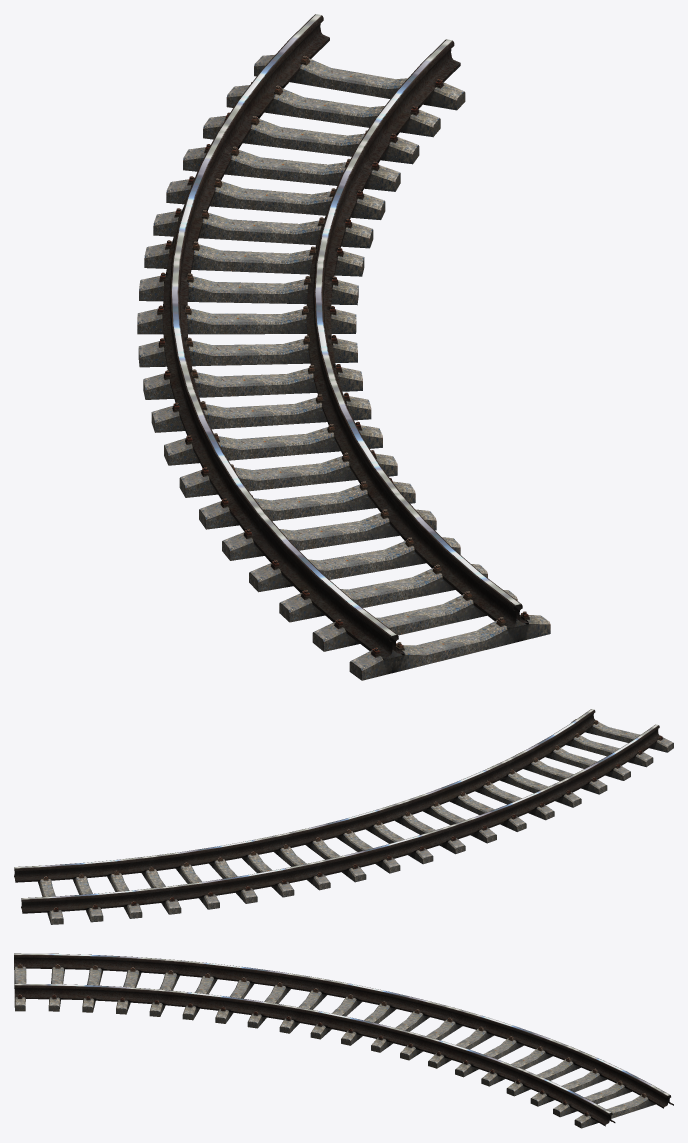
The model's file is Beton_rail_-55.FBX.
3 renders of one model, top to bottom at view 1: azimuth 30°, elevation 25°; view 2: azimuth 150°, elevation 25°; view 3: azimuth 270°, elevation 25°, orthographic. The views are drawn at different scales.
Parts seen in each view (by area): view 1: Beton_rail_-55_LOD0; view 2: Beton_rail_-55_LOD0; view 3: Beton_rail_-55_LOD0.
Boxes of the visible parts, box(x1,y1,x2,y2) form: Beton_rail_-55_LOD0: box(137, 14, 550, 680); Beton_rail_-55_LOD0: box(14, 709, 673, 924); Beton_rail_-55_LOD0: box(14, 953, 673, 1128).
Size of what is drawn, in the model's own units: 9.19 by 15.22 by 0.4774.
